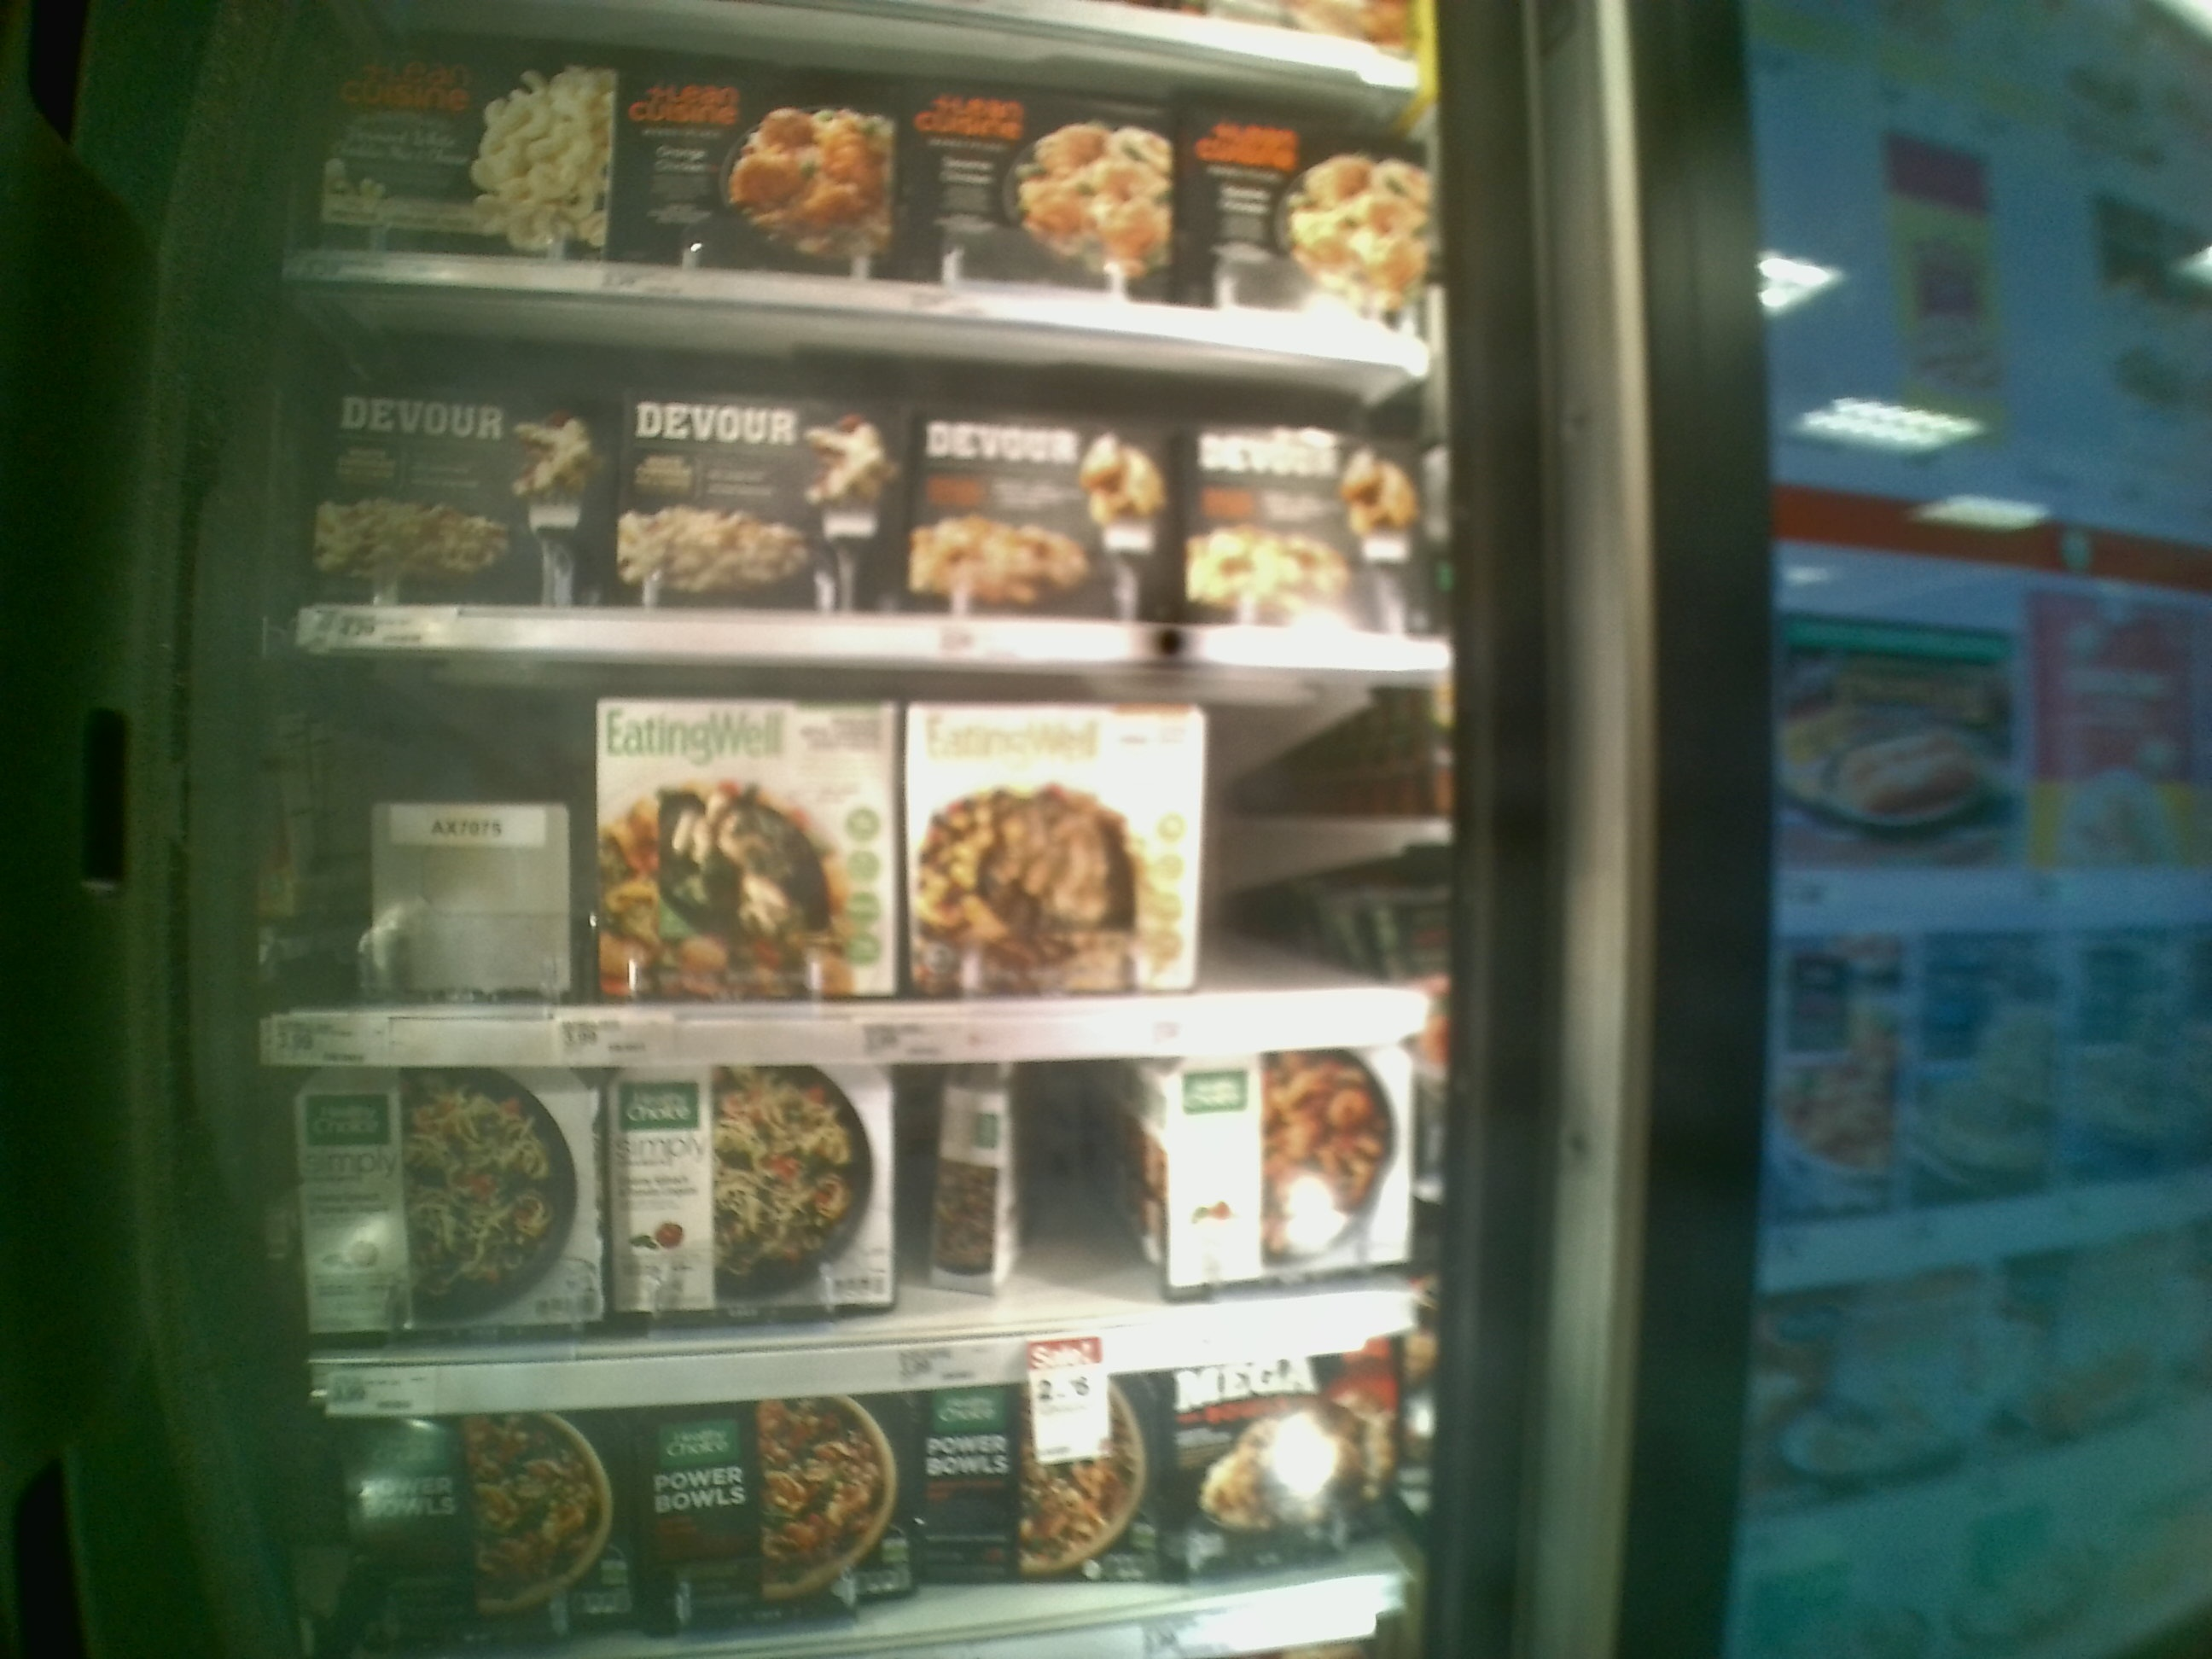shelf: (263, 636, 1442, 1063), (268, 270, 1453, 673), (286, 1042, 1454, 1417)
